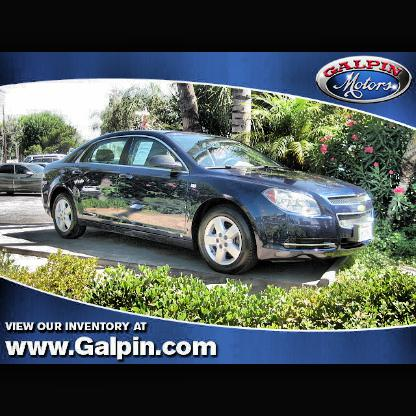Chevrolet Malibu Hybrid Sedan 2010: (40, 130, 378, 278)
